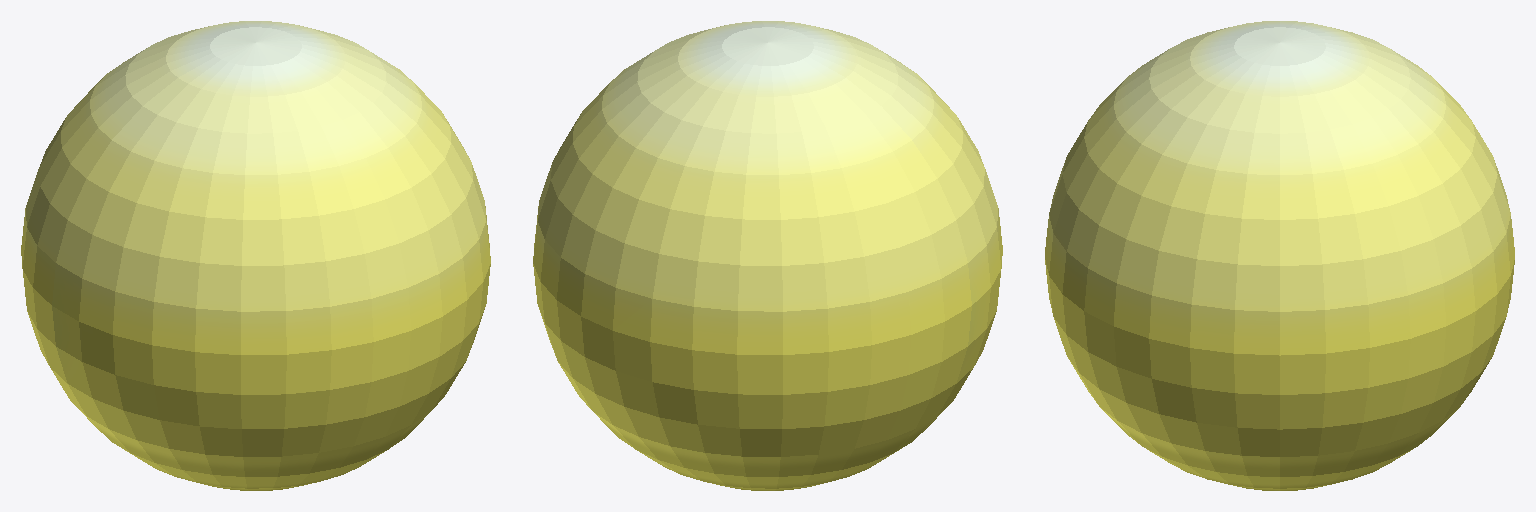
3 renders of one model, left to right at view 1: azimuth 30°, elevation 25°; view 2: azimuth 150°, elevation 25°; view 3: azimuth 270°, elevation 25°, orthographic.
Parts seen in each view (by area): view 1: 球; view 2: 球; view 3: 球.
Boxes of the visible parts, box(x1,y1,x2,y2) form: 球: box(21, 21, 490, 490); 球: box(533, 21, 1002, 490); 球: box(1045, 21, 1514, 490).
Bounding box in the file's own units: 2 × 2 × 2.
1 materials, 1 textured.